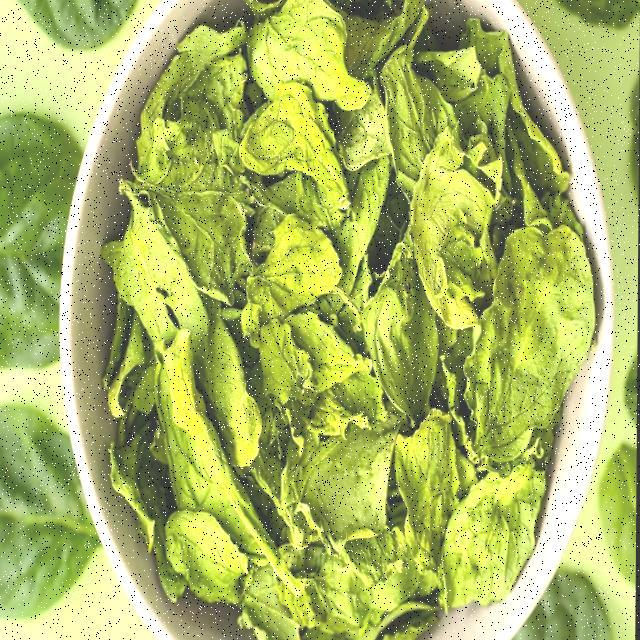Spinach: (101, 0, 601, 640)
